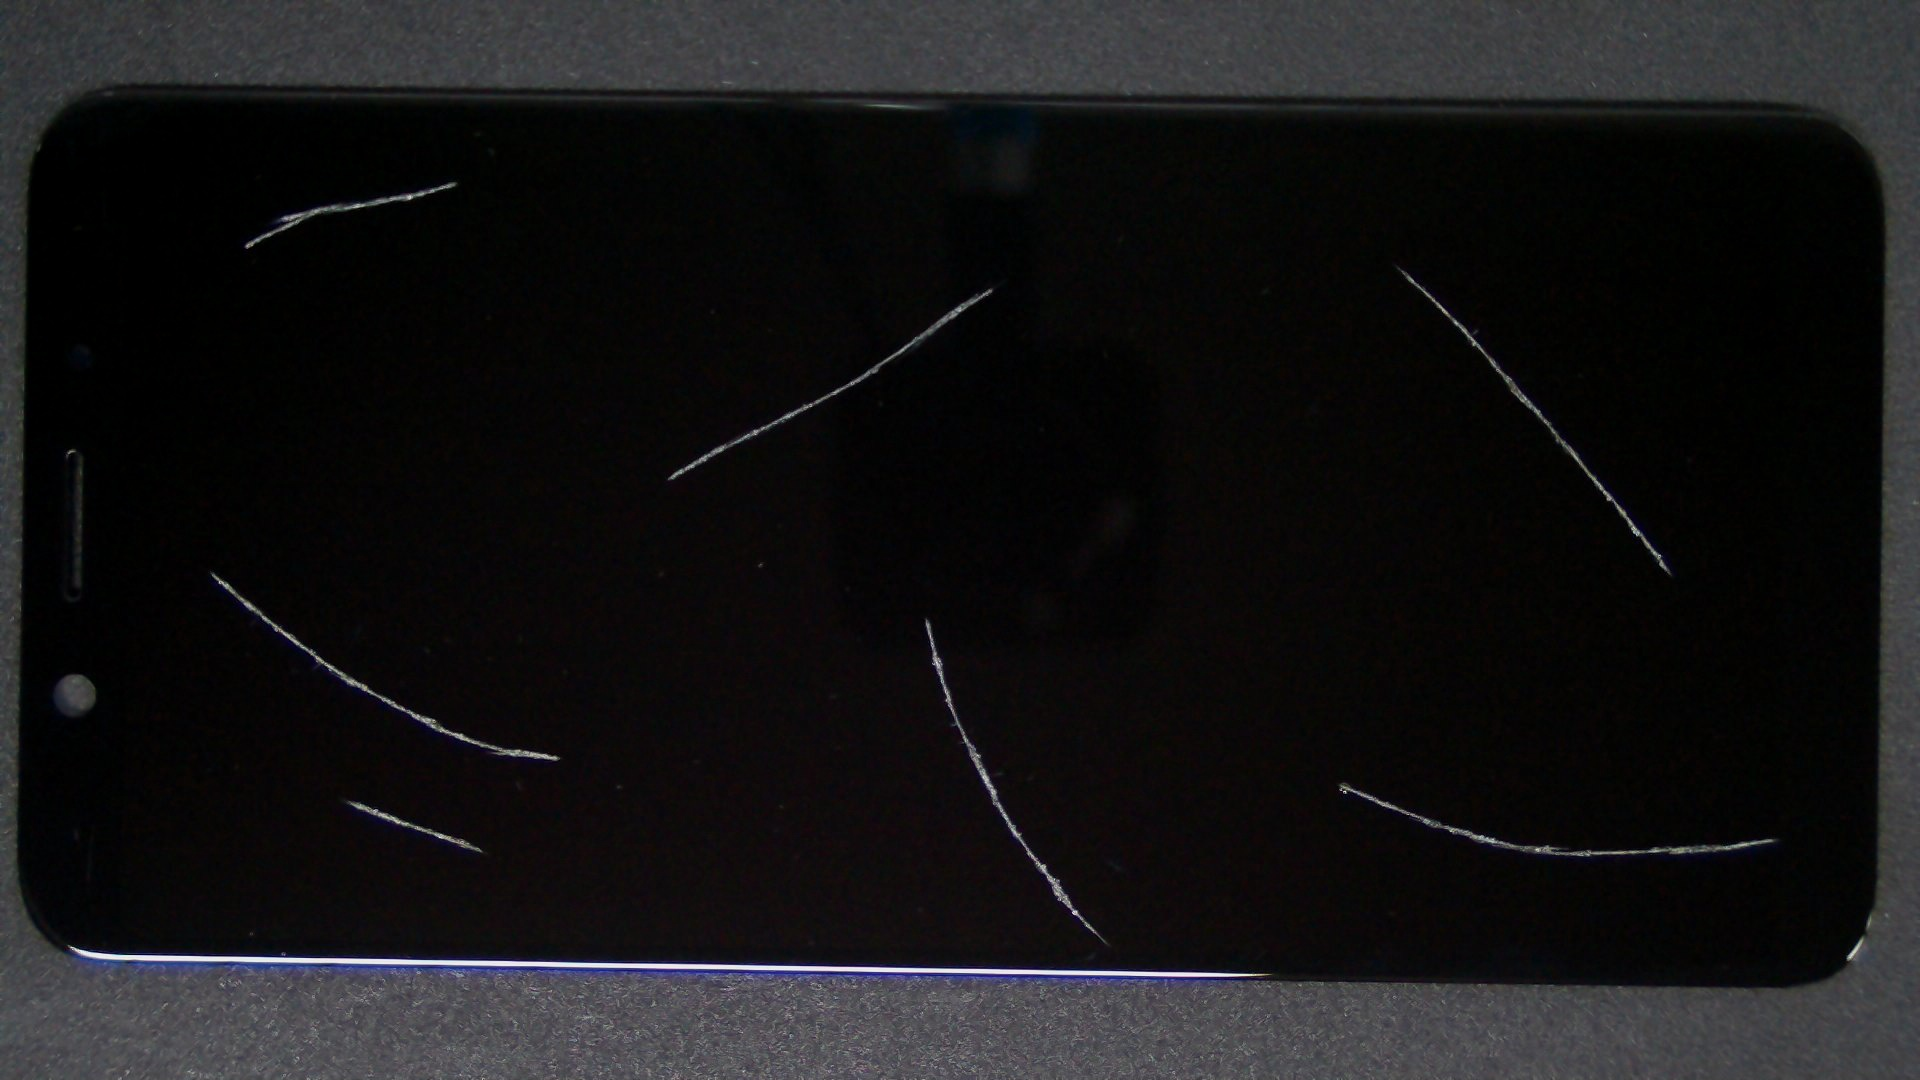oil: (671, 389, 1920, 1080), (463, 307, 1389, 924), (700, 132, 1920, 400), (497, 141, 1481, 431), (171, 398, 513, 1080), (108, 285, 320, 856), (225, 90, 674, 270)
